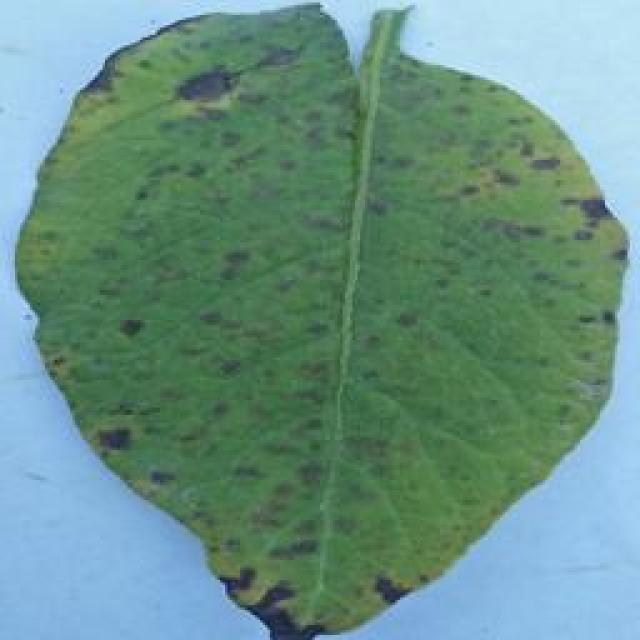Potato_Early_Blight: (1, 12, 632, 637), (459, 1, 639, 119)
